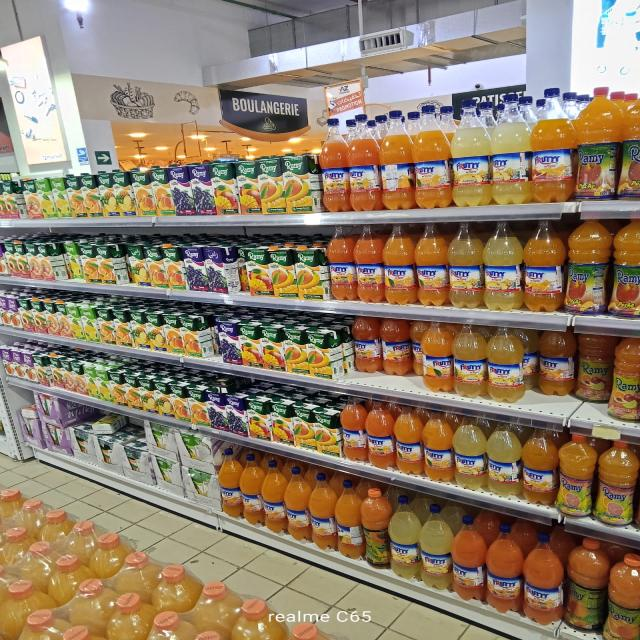ramy_carton: (280, 153, 314, 215), (236, 243, 272, 297), (292, 243, 326, 300), (312, 325, 348, 378), (266, 244, 300, 298), (311, 405, 345, 459), (233, 158, 263, 217), (201, 242, 236, 292), (256, 156, 286, 214), (207, 160, 238, 215), (269, 397, 299, 452), (282, 324, 314, 375), (257, 323, 289, 371), (187, 163, 216, 215), (180, 242, 210, 292), (167, 164, 195, 216), (91, 241, 124, 285), (244, 392, 273, 442), (214, 314, 244, 360), (158, 242, 185, 292), (178, 311, 210, 353), (110, 170, 138, 218), (139, 242, 167, 289), (130, 168, 158, 215), (148, 167, 174, 216), (124, 240, 150, 288), (95, 171, 122, 217), (77, 240, 105, 284), (78, 173, 104, 217), (41, 239, 68, 281), (143, 310, 168, 351), (134, 375, 160, 414), (48, 176, 72, 218), (238, 324, 261, 367), (34, 176, 57, 218), (62, 238, 84, 280), (188, 384, 208, 428), (123, 374, 145, 412), (127, 310, 147, 350), (1, 239, 22, 277), (168, 383, 188, 421), (64, 304, 85, 340), (96, 307, 115, 344), (68, 360, 86, 395), (106, 371, 124, 405), (30, 298, 45, 333)
ramy_plastique: (572, 86, 623, 202), (530, 90, 576, 206), (489, 92, 534, 206), (449, 98, 490, 208), (566, 217, 612, 315), (565, 537, 611, 633), (412, 102, 452, 208), (522, 218, 566, 311), (594, 440, 638, 528), (378, 108, 415, 211), (483, 221, 524, 311), (525, 530, 563, 627), (345, 111, 381, 212), (556, 433, 597, 518), (485, 524, 524, 612), (574, 331, 619, 402), (447, 222, 483, 308), (521, 427, 560, 505), (603, 554, 639, 638), (487, 326, 526, 403), (318, 119, 350, 212), (609, 216, 639, 315), (451, 516, 485, 603), (388, 498, 422, 584), (486, 421, 524, 497), (381, 228, 418, 304), (415, 226, 449, 308), (606, 338, 638, 423), (452, 323, 488, 398), (354, 224, 388, 303), (452, 416, 488, 490), (538, 327, 577, 395), (334, 478, 366, 558), (359, 486, 391, 566), (420, 319, 455, 392), (309, 472, 339, 552), (421, 408, 454, 479), (365, 399, 397, 469), (328, 224, 358, 298), (284, 466, 313, 542), (262, 461, 290, 535), (239, 454, 267, 527), (218, 448, 244, 518), (379, 319, 411, 375), (340, 395, 367, 461), (352, 316, 382, 373), (397, 405, 419, 476)
rouiba_plastique: (236, 321, 238, 323)
